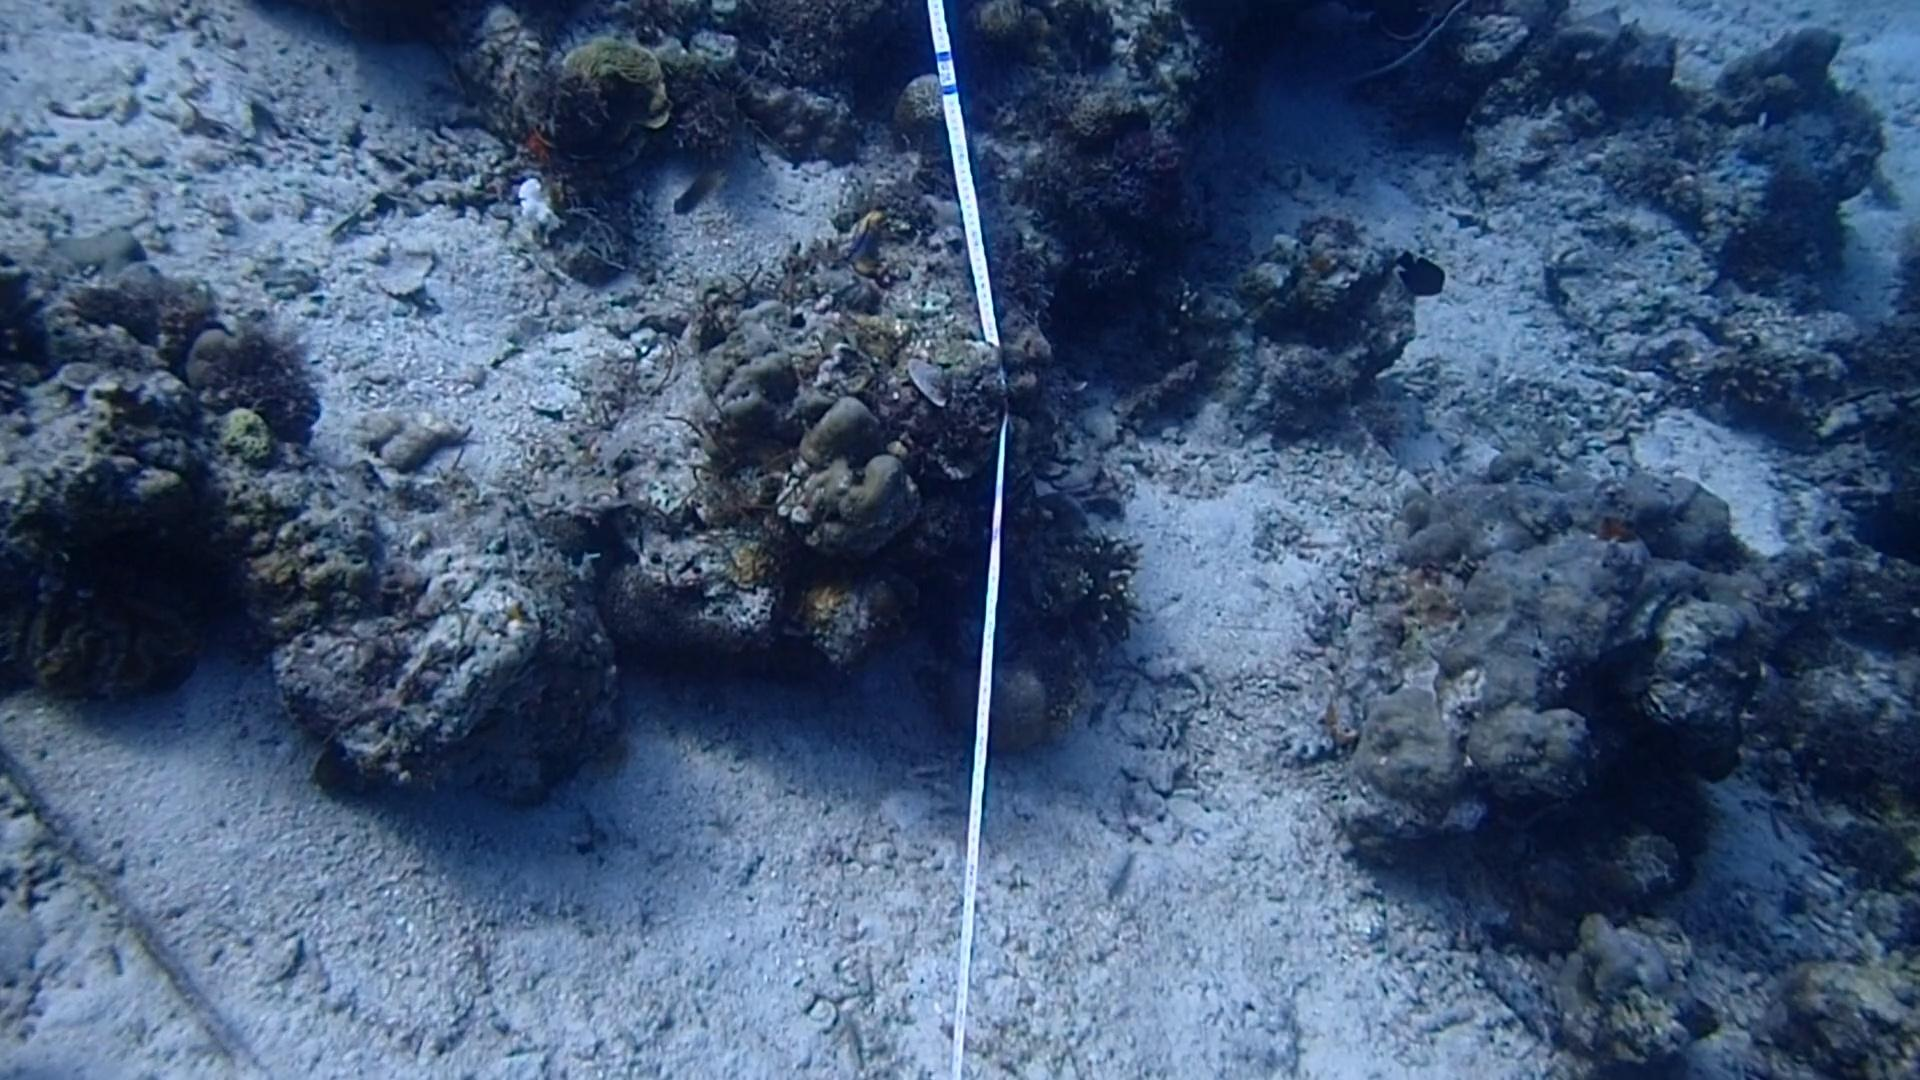Dark Fish: (1858, 495, 1920, 562), (1395, 237, 1455, 301)
Light Fish: (662, 161, 728, 220)
